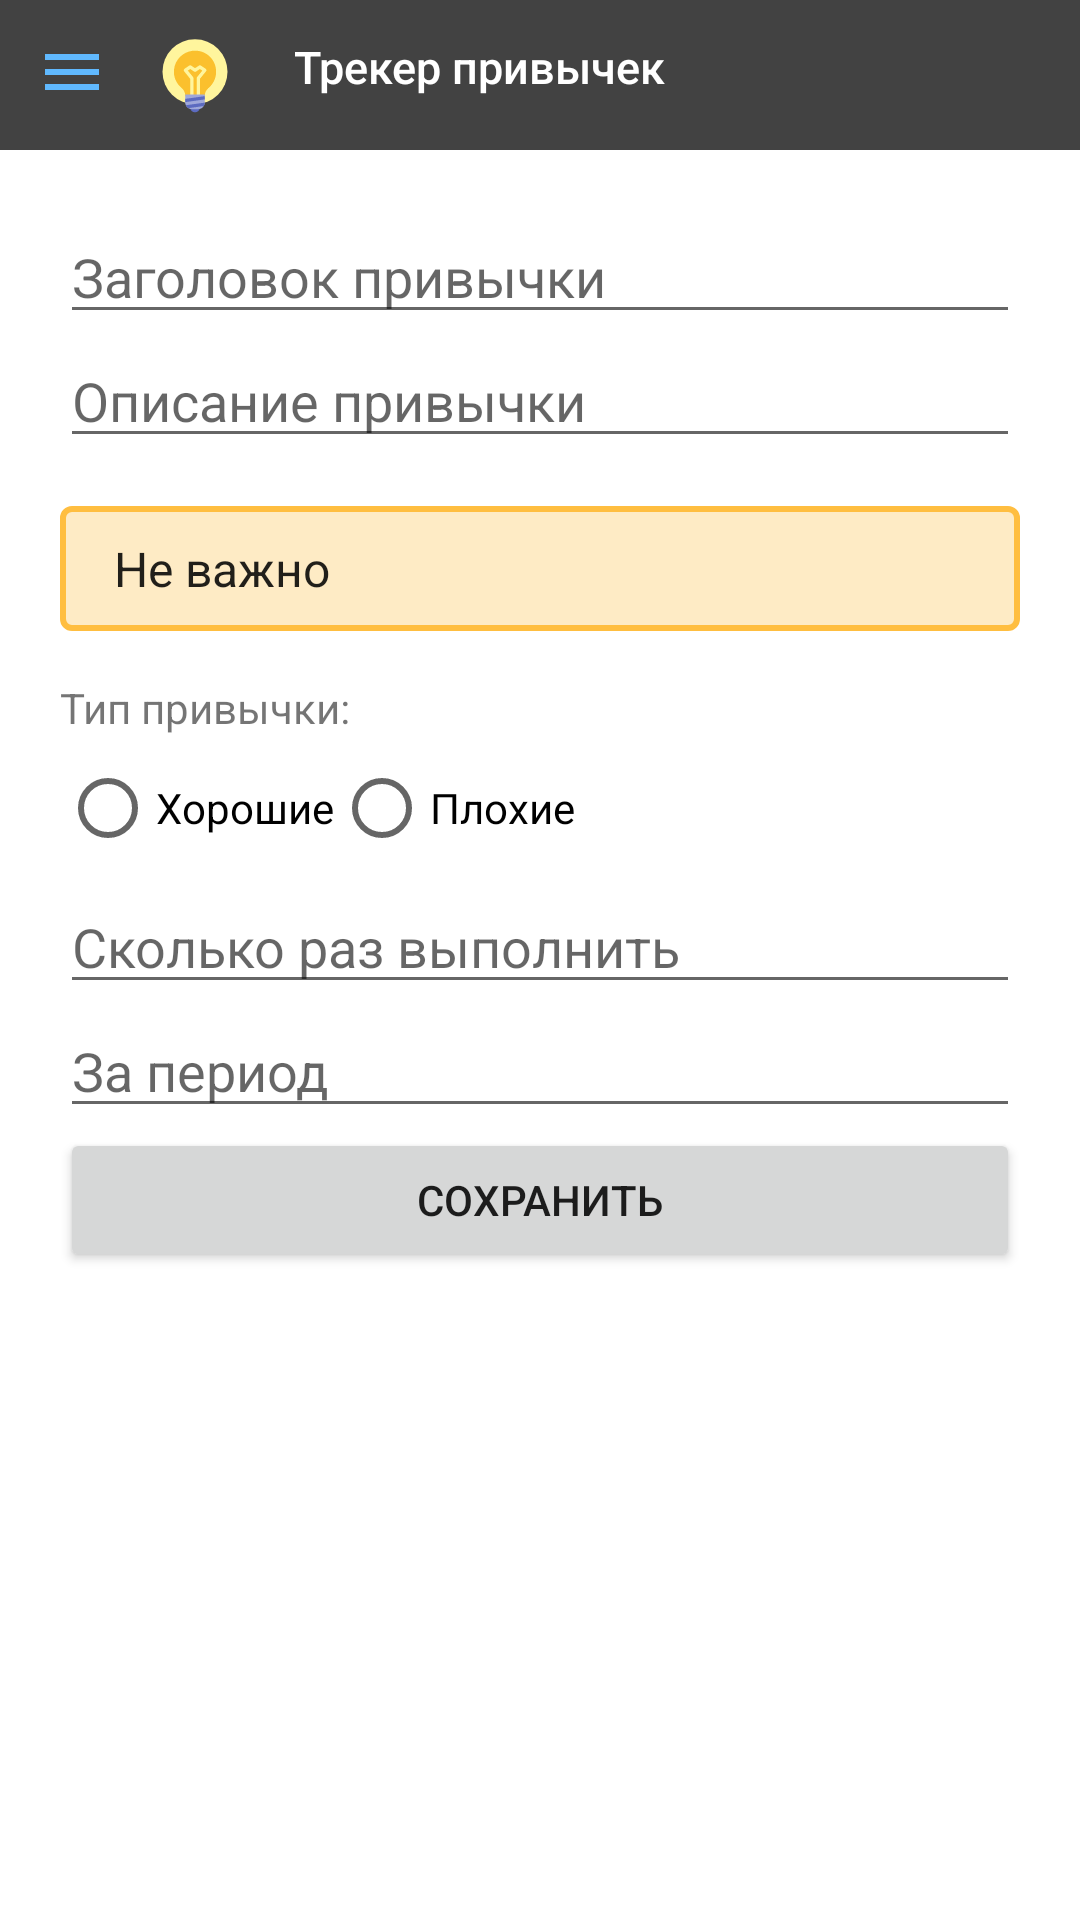

Where icons sit on this 1080x1920 app screen, as (x1, y1, x2, y2):
Меню: (45, 54, 99, 90)
